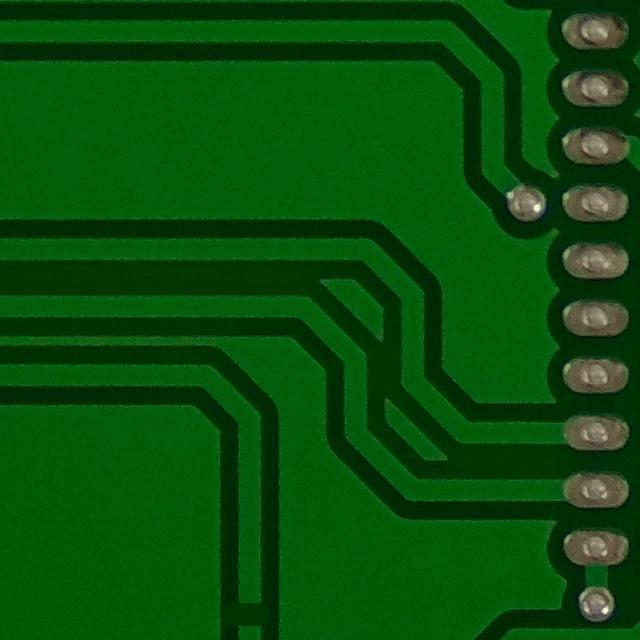open_circuit: (227, 588, 273, 640)
